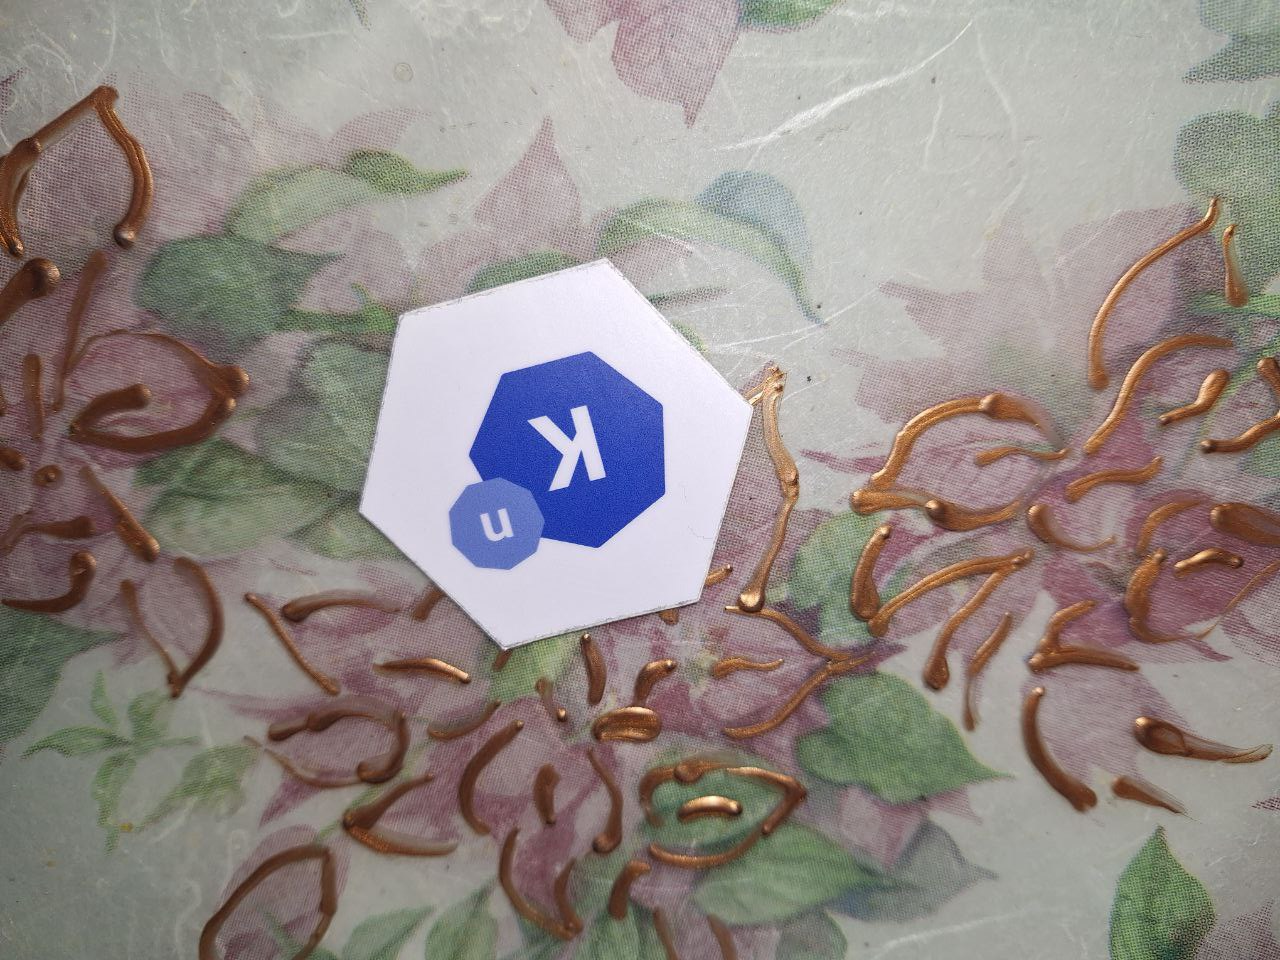knative: (443, 351, 669, 572)
